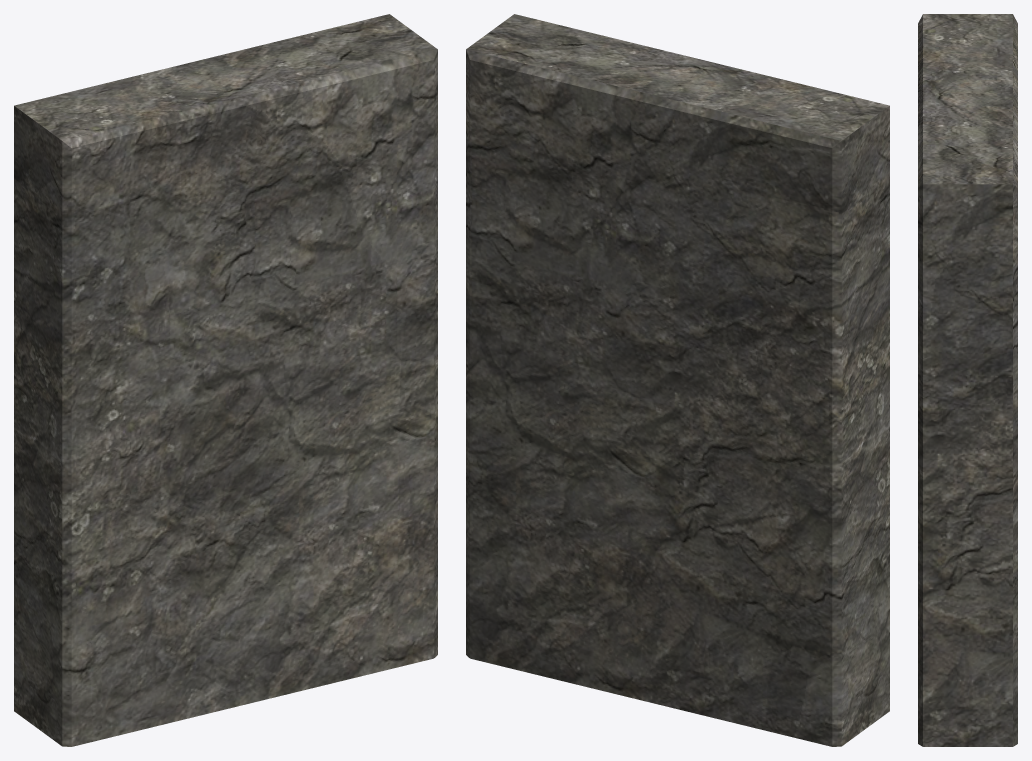
Rendered from Gravestones_Stone_01.fbx.
3 renders of one model, left to right at view 1: azimuth 30°, elevation 25°; view 2: azimuth 150°, elevation 25°; view 3: azimuth 270°, elevation 25°, orthographic. The views are drawn at different scales.
Parts seen in each view (by area): view 1: pCube17; view 2: pCube17; view 3: pCube17.
Boxes of the visible parts, bbox=[...] form: pCube17: bbox=[14, 14, 437, 746]; pCube17: bbox=[466, 14, 889, 746]; pCube17: bbox=[918, 14, 1017, 746].
Size of the model in its own units: 0.5145 by 0.7927 by 0.1275.
